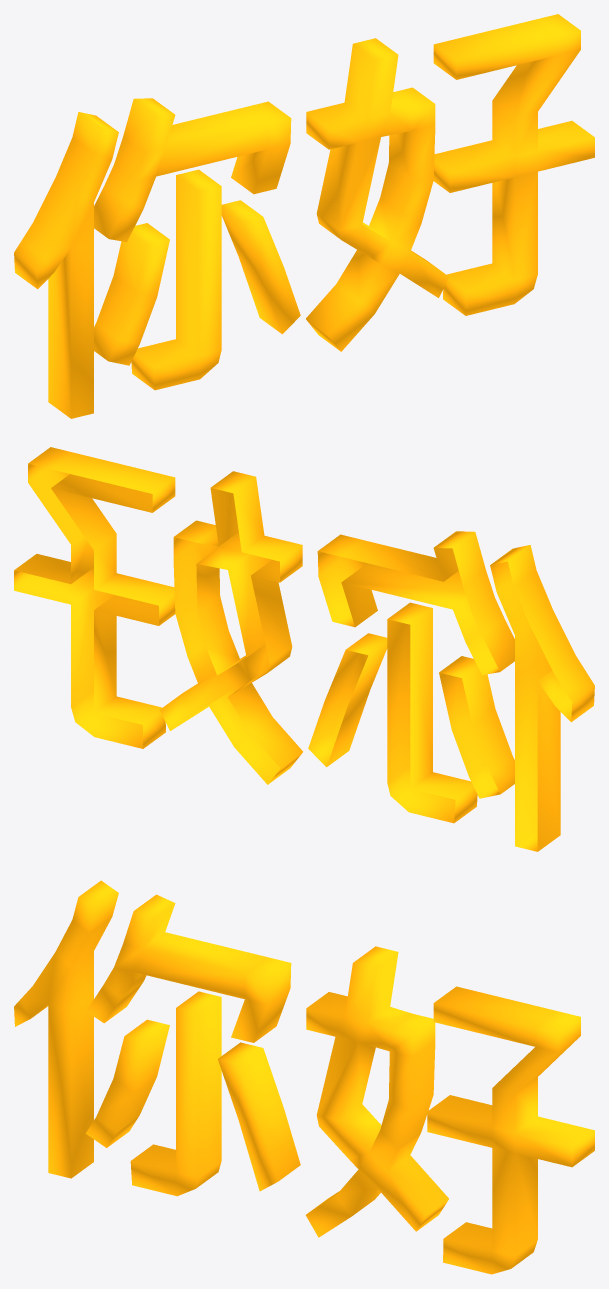
The model's file is Hello.glb.
3 renders of one model, top to bottom at view 1: azimuth 30°, elevation 25°; view 2: azimuth 150°, elevation 25°; view 3: azimuth 330°, elevation 25°, orthographic.
Visible parts, largest first — view 1: Hello; view 2: Hello; view 3: Hello.
Boxes of the visible parts, x1,y1,x2,y2 form: Hello: [14, 14, 594, 418]; Hello: [14, 447, 594, 851]; Hello: [14, 880, 594, 1274].
Bounding box in the file's own units: 0.9405 × 0.4577 × 0.0664.
1 material, 1 textured.
